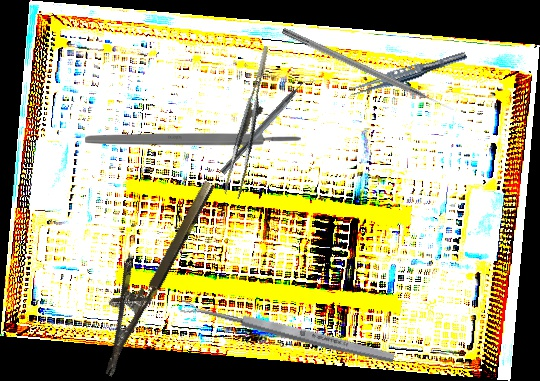Chopper: (219, 72, 318, 181)
Hook Surgical: (280, 26, 456, 115)
Needle Holder: (74, 166, 217, 377)
Scalpel Handle: (85, 133, 301, 146)
Surgical Spoon: (179, 297, 396, 366)
Tissue Forceps: (209, 45, 294, 200), (346, 46, 469, 102)
